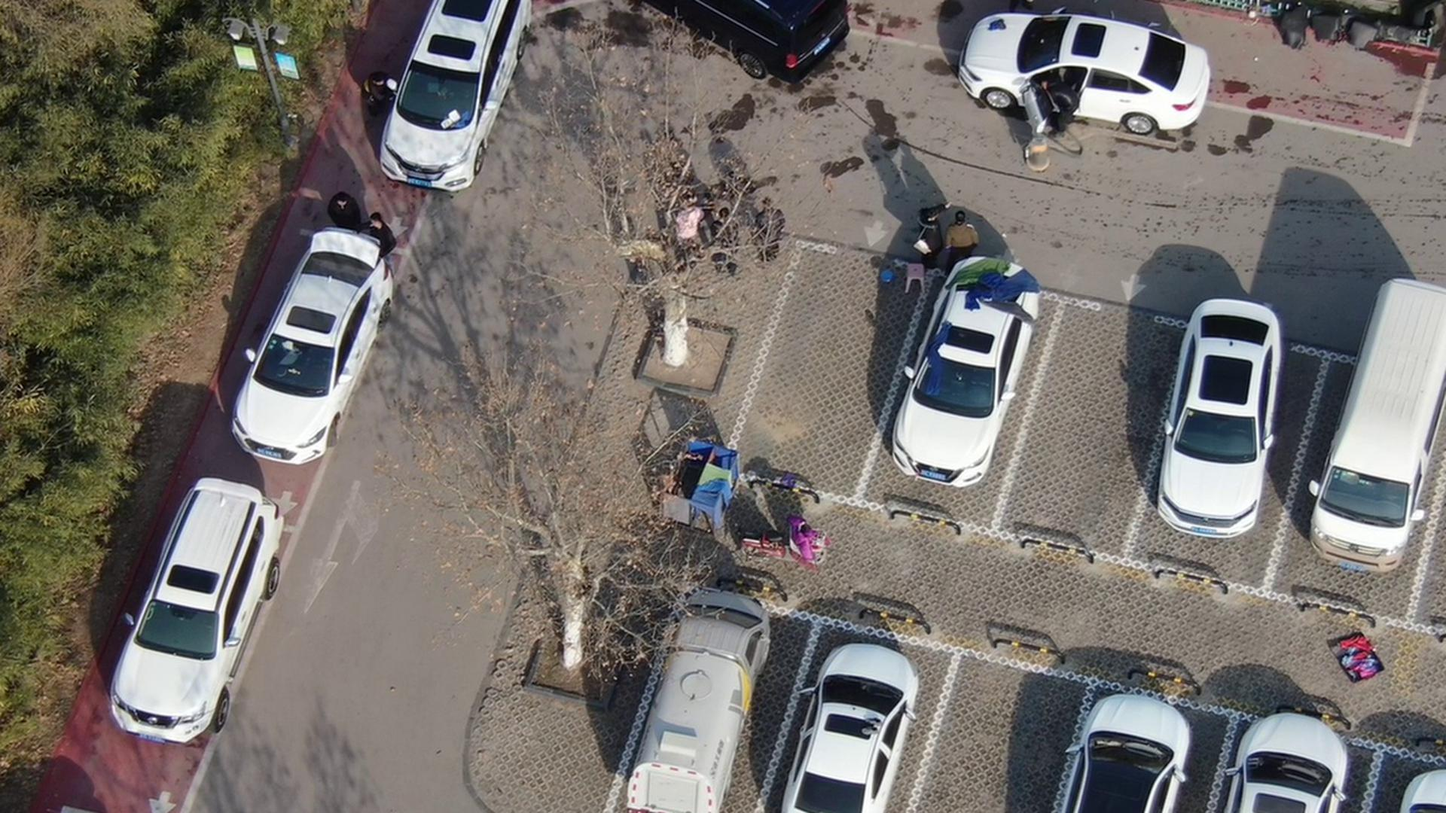human: (752, 187, 798, 268), (947, 199, 990, 270), (367, 61, 407, 127), (717, 198, 750, 273), (917, 200, 951, 272), (371, 206, 409, 268), (1051, 72, 1088, 135), (331, 180, 367, 237)
